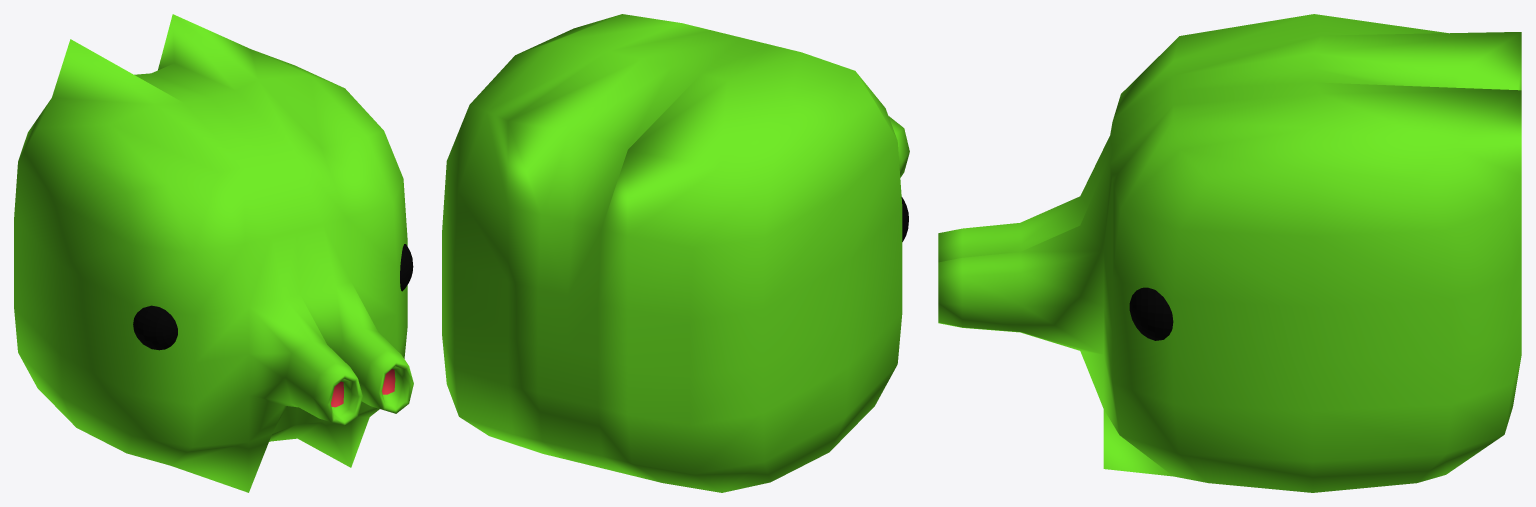
The model's file is pig.fbx.
The picture shows the model from 3 angles, left to right: view 1: azimuth 30°, elevation 25°; view 2: azimuth 150°, elevation 25°; view 3: azimuth 270°, elevation 25°; orthographic projection. The views are drawn at different scales.
Visible parts, largest first — view 1: Cube, Sphere; view 2: Cube; view 3: Cube, Sphere.
Boxes of the visible parts, box(x1,y1,x2,y2) form: Cube: box(14, 14, 413, 492); Sphere: box(133, 244, 413, 350); Cube: box(442, 14, 909, 492); Cube: box(938, 14, 1521, 492); Sphere: box(1129, 287, 1173, 340).
Size of the model in its own units: 194 by 200 by 279.
